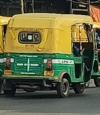Auto: (3, 10, 97, 100)
